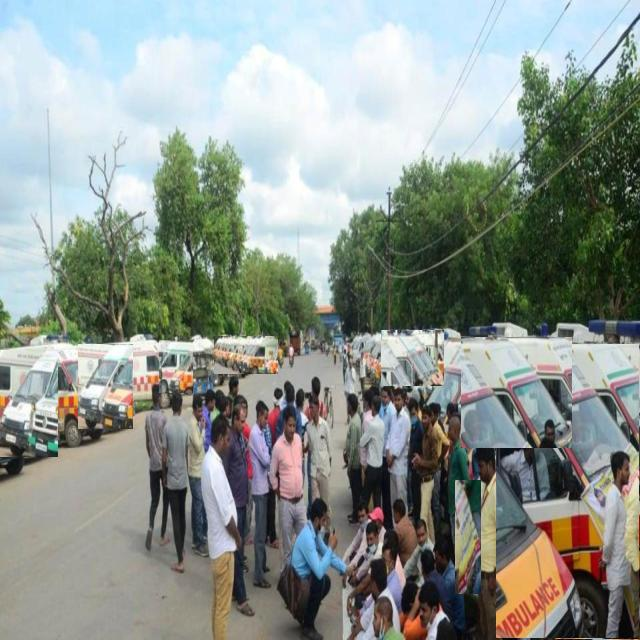emergency: (496, 345, 640, 638), (555, 471, 640, 639), (461, 338, 572, 448), (16, 338, 110, 446), (429, 338, 522, 421), (0, 351, 58, 457), (102, 340, 181, 406), (79, 345, 133, 429), (0, 360, 30, 476), (381, 331, 444, 386), (411, 339, 464, 402), (455, 480, 481, 594), (215, 336, 278, 374), (184, 336, 215, 393), (160, 340, 193, 393)
